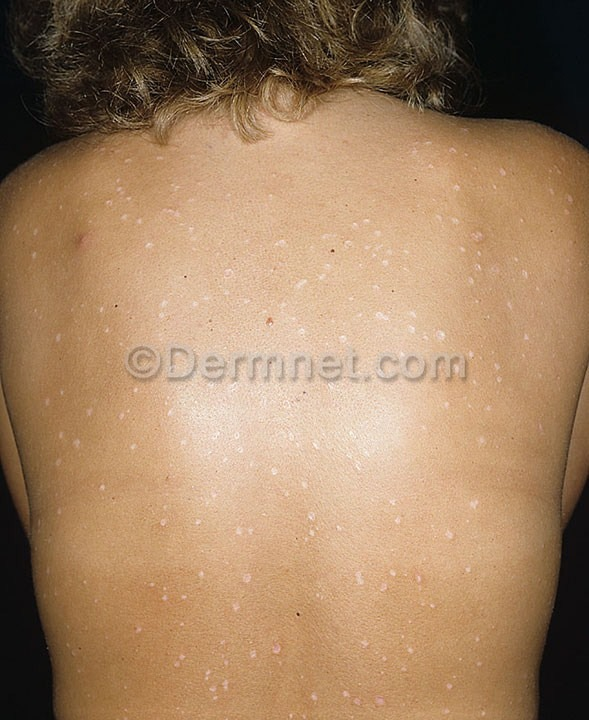Psoriasis: (43, 149, 542, 702)
